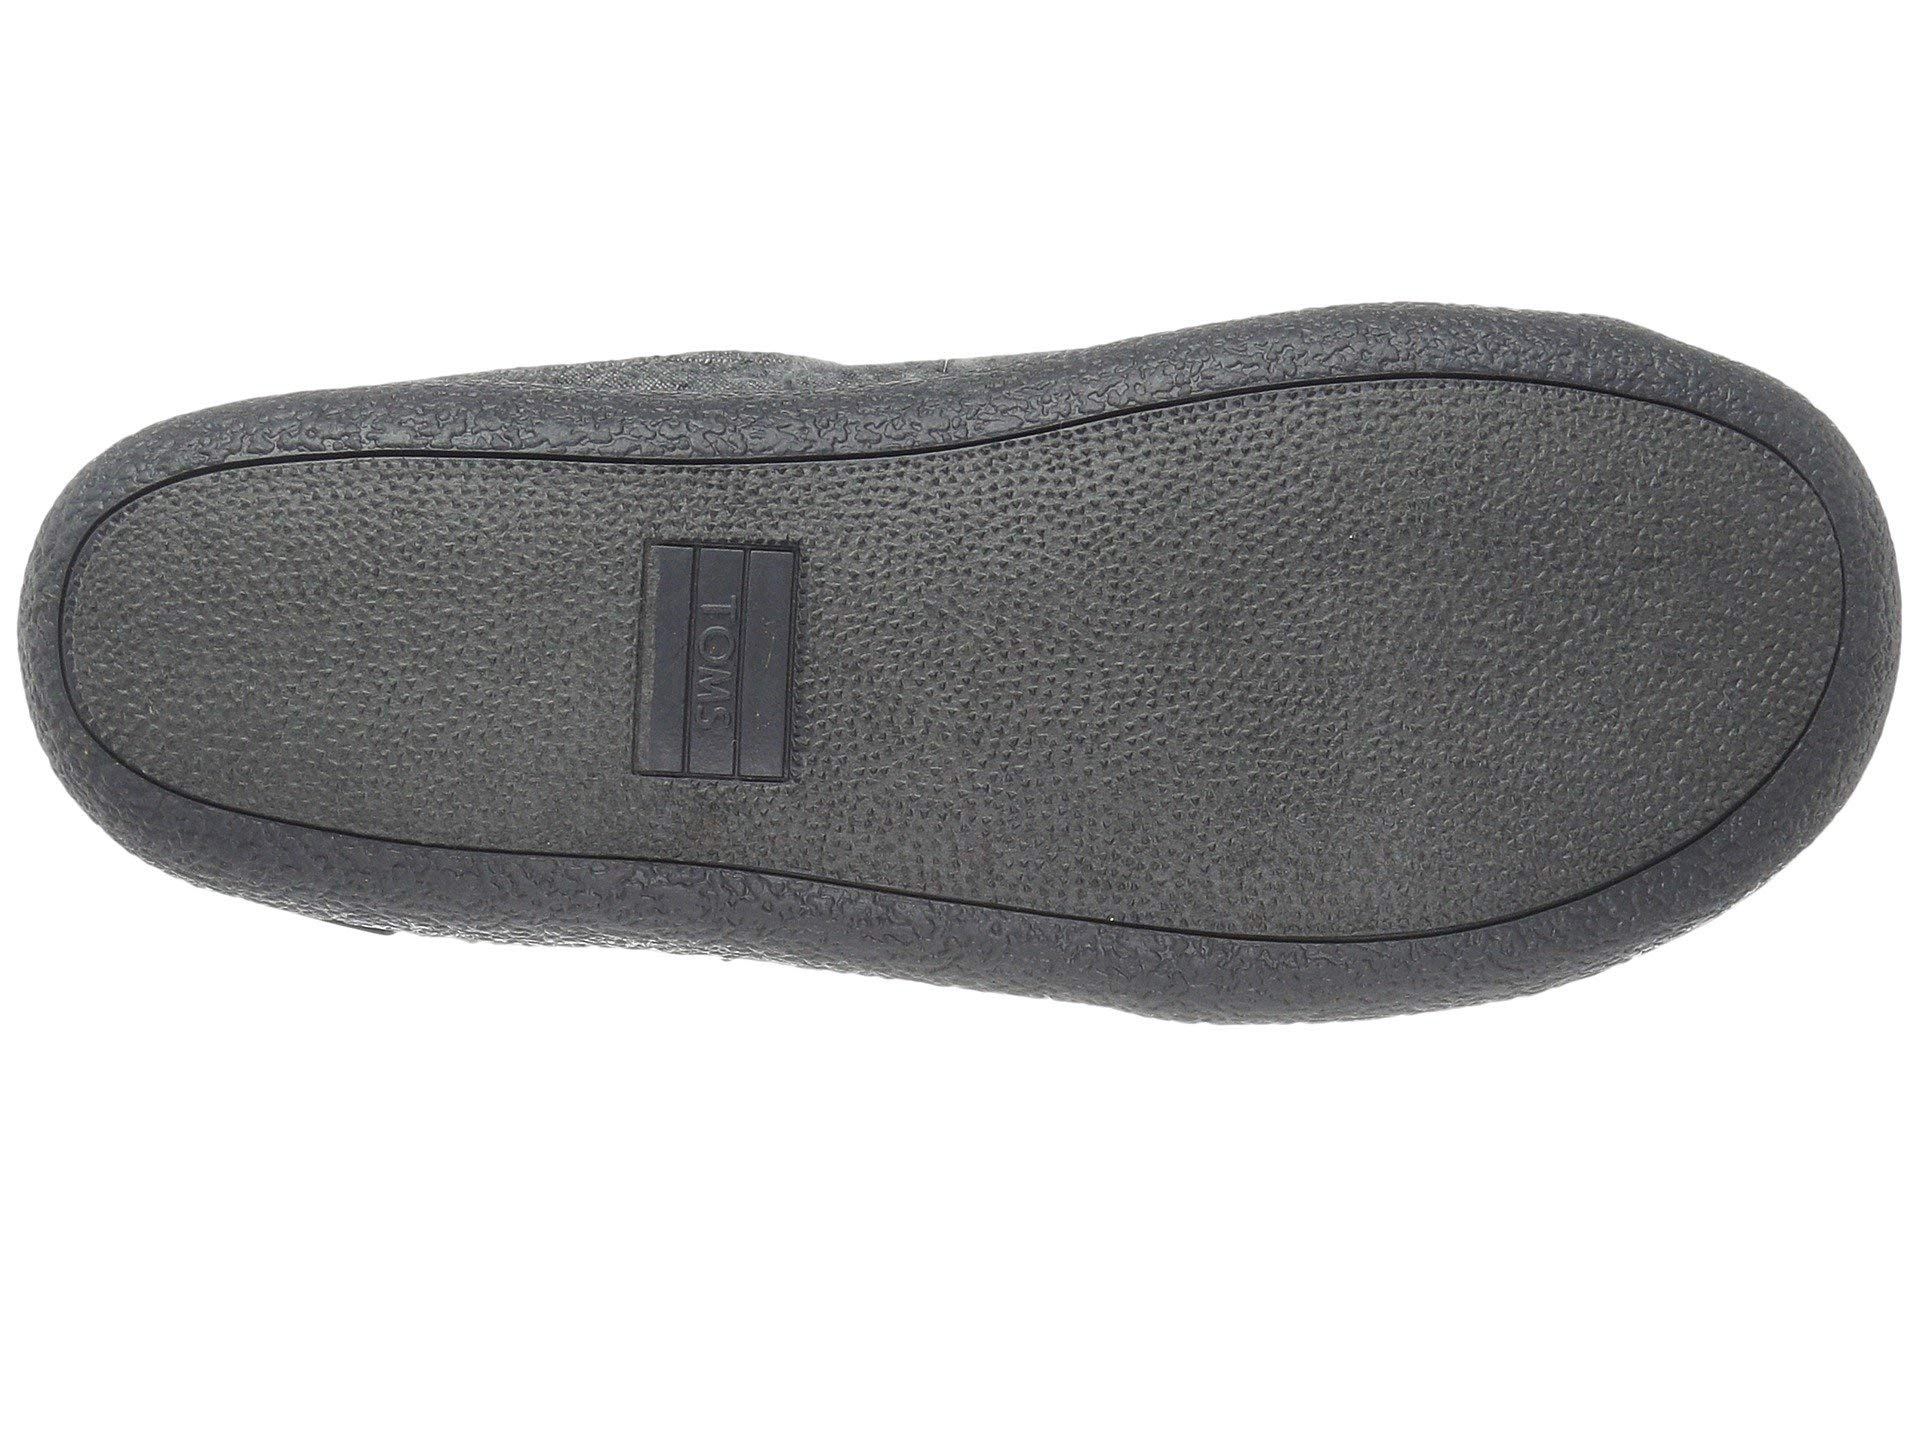circle: (626, 526, 804, 796)
quad: (626, 526, 804, 796)
text: (626, 526, 804, 796)
